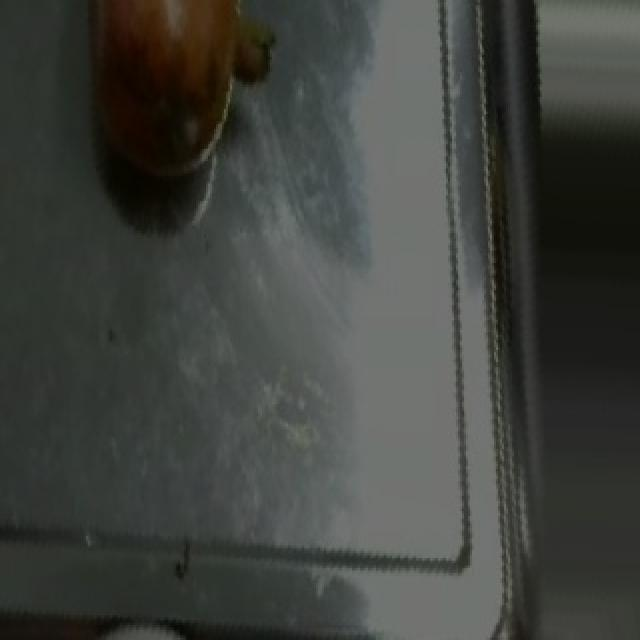fruit: (62, 0, 280, 206)
